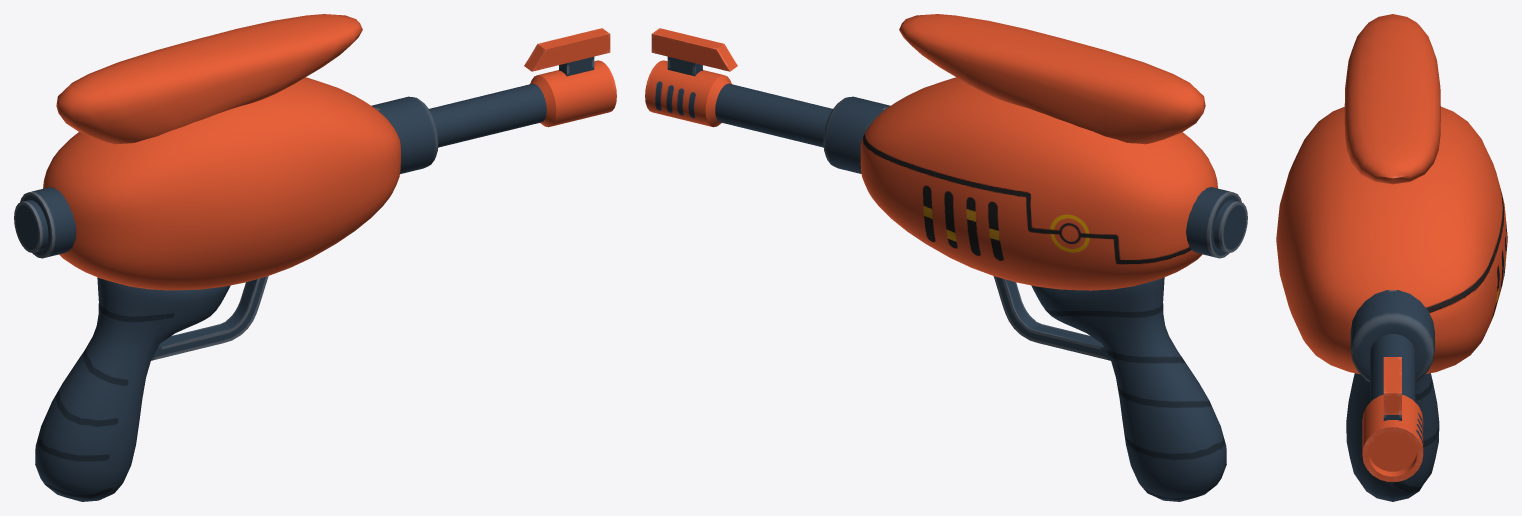
File: Arma.fbx
3 views of the same model, side by side, from view 1: azimuth 30°, elevation 25°; view 2: azimuth 150°, elevation 25°; view 3: azimuth 270°, elevation 25° (orthographic). The views are drawn at different scales.
Visible parts, largest first — view 1: Cube, Cube.005, Cube.003, Cylinder, Cylinder.001, Cylinder.002, Cube.004, Cube.002; view 2: Cube, Cube.005, Cube.003, Cylinder, Cylinder.001, Cylinder.002, Cube.004, Cube.002; view 3: Cube, Cube.005, Cylinder, Cube.003, Cylinder.001, Cube.002.
Part boxes in pixels (left/top/right/bottom): Cube: left=43, top=77, right=400, bottom=290; Cube.005: left=56, top=14, right=362, bottom=144; Cube.003: left=35, top=277, right=230, bottom=501; Cylinder: left=371, top=83, right=546, bottom=173; Cylinder.001: left=530, top=60, right=616, bottom=127; Cylinder.002: left=14, top=187, right=76, bottom=258; Cube.004: left=151, top=276, right=268, bottom=360; Cube.002: left=524, top=28, right=610, bottom=71; Cube: left=860, top=77, right=1217, bottom=290; Cube.005: left=899, top=14, right=1205, bottom=144; Cube.003: left=1031, top=277, right=1226, bottom=501; Cylinder: left=715, top=83, right=890, bottom=173; Cylinder.001: left=645, top=60, right=731, bottom=127; Cylinder.002: left=1186, top=187, right=1247, bottom=258; Cube.004: left=993, top=276, right=1110, bottom=360; Cube.002: left=651, top=28, right=737, bottom=71; Cube: left=1276, top=106, right=1507, bottom=374; Cube.005: left=1344, top=14, right=1440, bottom=184; Cylinder: left=1350, top=290, right=1434, bottom=402; Cube.003: left=1346, top=373, right=1439, bottom=501; Cylinder.001: left=1362, top=394, right=1423, bottom=481; Cube.002: left=1383, top=357, right=1401, bottom=414.
Size of the model in its own units: 676 by 472 by 204.
